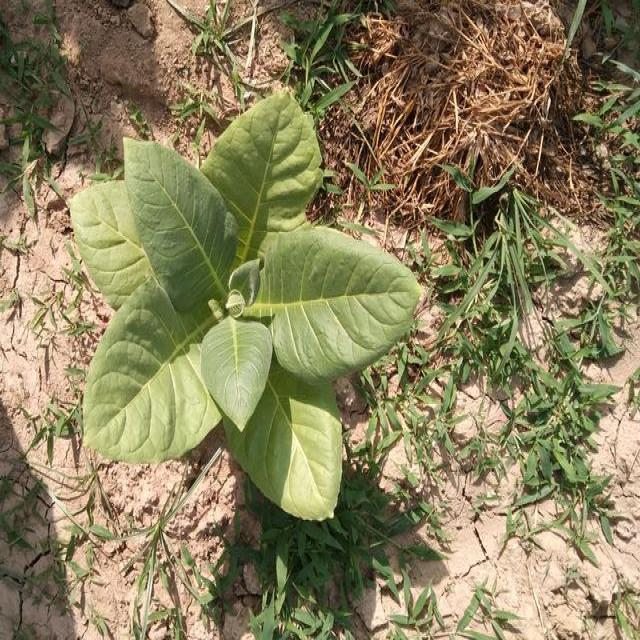crop: (66, 93, 424, 535)
